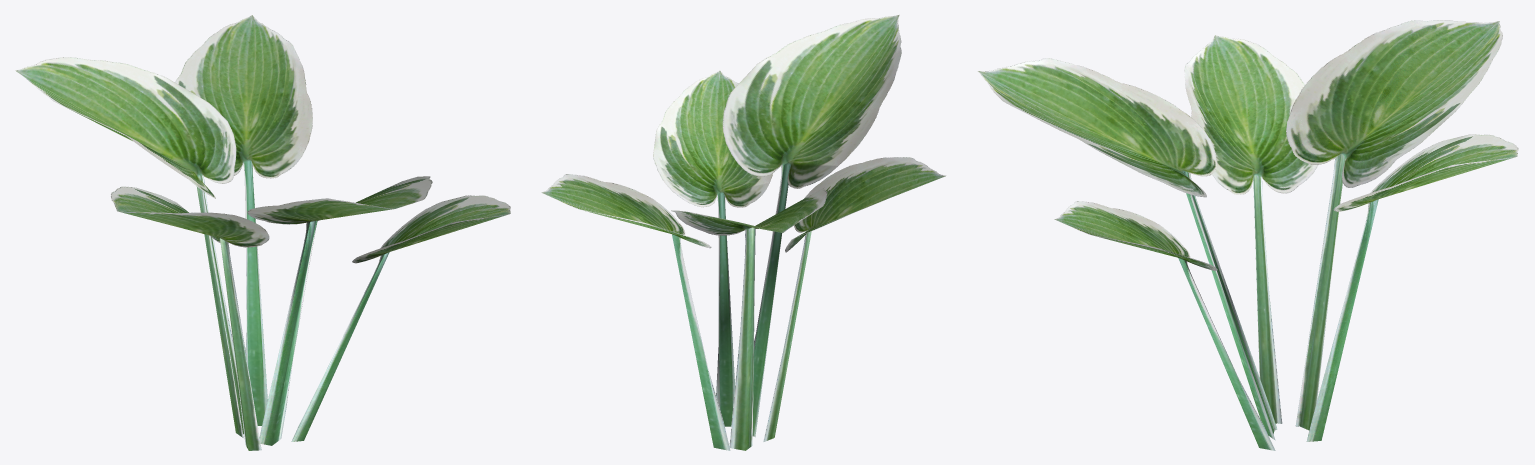
The model's file is plant_small_wg_05R3.fbx.
The picture shows the model from 3 angles, left to right: view 1: azimuth 30°, elevation 25°; view 2: azimuth 150°, elevation 25°; view 3: azimuth 270°, elevation 25°; orthographic projection. The views are drawn at different scales.
Visible parts, largest first — view 1: plant_small_wg_05R3; view 2: plant_small_wg_05R3; view 3: plant_small_wg_05R3.
Boxes of the visible parts, x1,y1,x2,y2 form: plant_small_wg_05R3: (15,15,510,450); plant_small_wg_05R3: (541,15,945,450); plant_small_wg_05R3: (978,20,1518,450).
Size of the model in its own units: 39.46 by 38.55 by 53.48.
